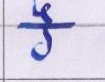ai_matra: (32, 2, 56, 23)
